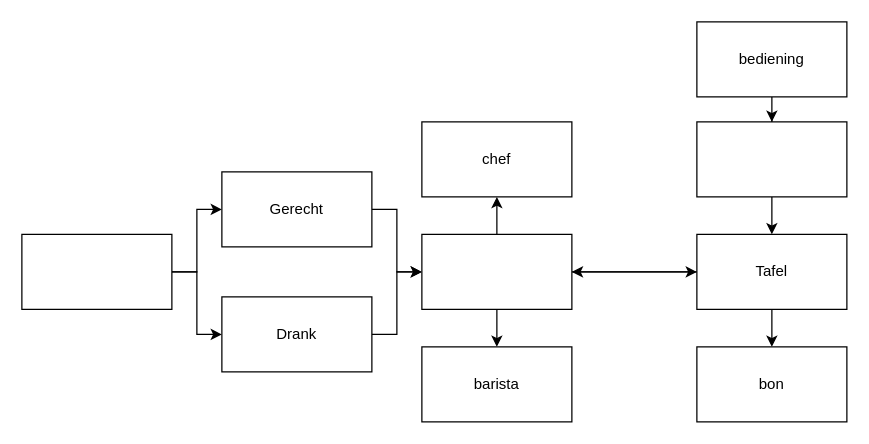
This 869x444 diagram has some shape labels left out. Here are the shapes that lost their labels. From the top down, the centre of each, then its label:
At point (771, 159): "reservering".
At point (96, 271): "Menu".
At point (496, 271): "bestelling".
